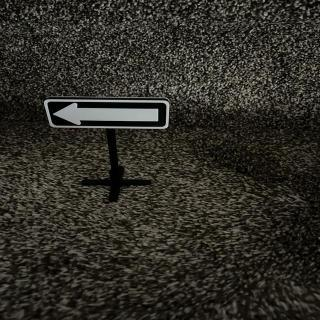sign_oneway_left: (45, 98, 172, 131)
